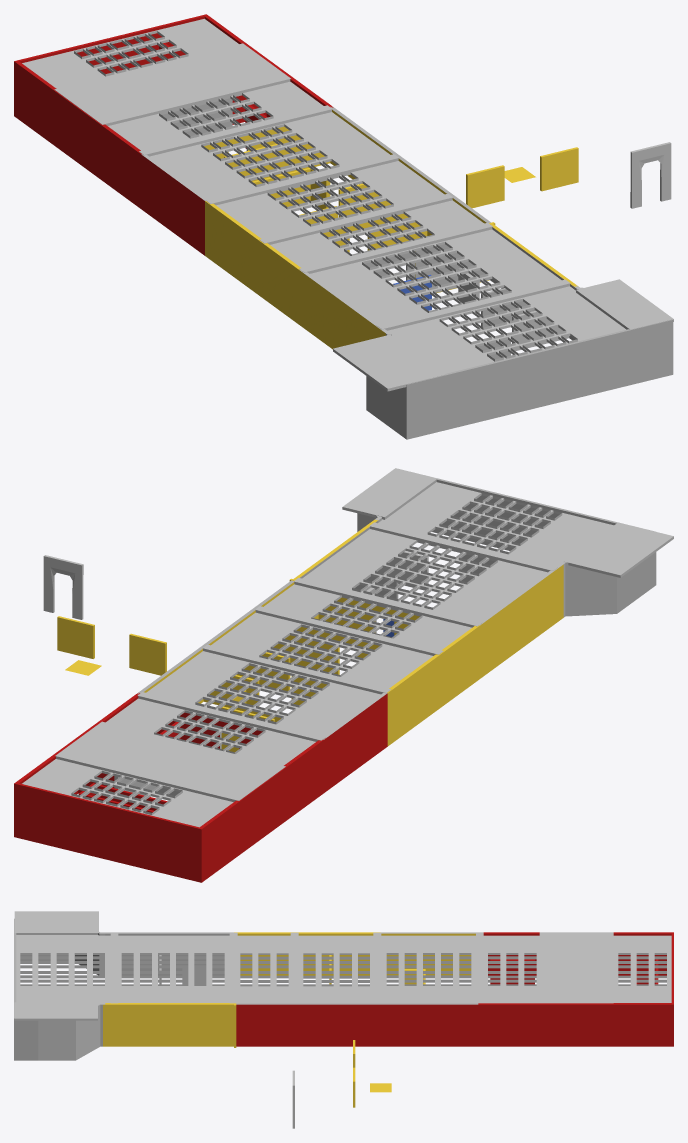
Rendered from museeV15.obj.
3 renders of one model, top to bottom at view 1: azimuth 30°, elevation 25°; view 2: azimuth 150°, elevation 25°; view 3: azimuth 270°, elevation 25°, orthographic. The views are drawn at different scales.
Visible parts, largest first — view 1: Plane.009_Plane.013, Wall.042_Wall.045, Wall.028_Wall.001, Wall.030_Wall.014, Wall.036_Wall.033, Wall.004_Wall.009, Wall.024_Wall.037, Wall.014_Wall.027, Wall.044_Wall.047, Plane.003_Plane.001, Wall.013_Wall.026, Wall.008_Wall.022 (+4 smaller); view 2: Plane.009_Plane.013, Wall.037_Wall.041, Wall.004_Wall.009, Wall.028_Wall.001, Wall.044_Wall.047, Wall.036_Wall.033, Wall.030_Wall.014, Wall.024_Wall.037, Wall.042_Wall.045, Wall.014_Wall.027, Plane.003_Plane.001, Wall.013_Wall.026 (+4 smaller); view 3: Plane.009_Plane.013, Wall.027_Wall, Wall.003_Wall.006, Wall.033_Wall.021, Wall_Wall.030, Wall.018_Wall.031, Wall.041_Wall.017, Wall.004_Wall.009, Wall.043_Wall.046, Wall.028_Wall.001, Wall.024_Wall.037, Wall.014_Wall.027 (+3 smaller).
Boxes of the visible parts, x1,y1,x2,y2 form: Plane.009_Plane.013: (22, 18, 673, 391); Wall.042_Wall.045: (409, 320, 671, 438); Wall.028_Wall.001: (141, 142, 218, 255); Wall.030_Wall.014: (76, 107, 141, 208); Wall.036_Wall.033: (14, 60, 77, 162); Wall.004_Wall.009: (300, 260, 388, 349); Wall.024_Wall.037: (205, 201, 261, 296); Wall.014_Wall.027: (260, 241, 300, 325); Wall.044_Wall.047: (366, 334, 409, 439); Plane.003_Plane.001: (630, 142, 671, 208); Wall.013_Wall.026: (540, 147, 578, 191); Wall.008_Wall.022: (466, 165, 504, 208); Plane.009_Plane.013: (22, 468, 673, 827); Wall.037_Wall.041: (17, 783, 198, 881); Wall.004_Wall.009: (404, 563, 563, 677); Wall.028_Wall.001: (248, 692, 387, 792); Wall.044_Wall.047: (563, 531, 656, 616); Wall.036_Wall.033: (198, 784, 263, 882); Wall.030_Wall.014: (262, 738, 325, 837); Wall.024_Wall.037: (387, 653, 441, 746); Wall.042_Wall.045: (432, 478, 652, 550); Wall.014_Wall.027: (441, 625, 480, 706); Plane.003_Plane.001: (43, 555, 83, 619); Wall.013_Wall.026: (57, 616, 94, 658); Plane.009_Plane.013: (14, 911, 671, 1020); Wall.027_Wall: (331, 1003, 480, 1046); Wall.003_Wall.006: (103, 1003, 236, 1047); Wall.033_Wall.021: (478, 1003, 578, 1046); Wall_Wall.030: (576, 1003, 673, 1046); Wall.018_Wall.031: (236, 1003, 331, 1046); Wall.041_Wall.017: (38, 1003, 100, 1060); Wall.004_Wall.009: (103, 932, 233, 975); Wall.043_Wall.046: (14, 1018, 38, 1060); Wall.028_Wall.001: (381, 932, 475, 975); Wall.024_Wall.037: (295, 932, 380, 975); Wall.014_Wall.027: (234, 932, 294, 975).
Bounding box in the file's own units: 118 × 13.68 × 189.
